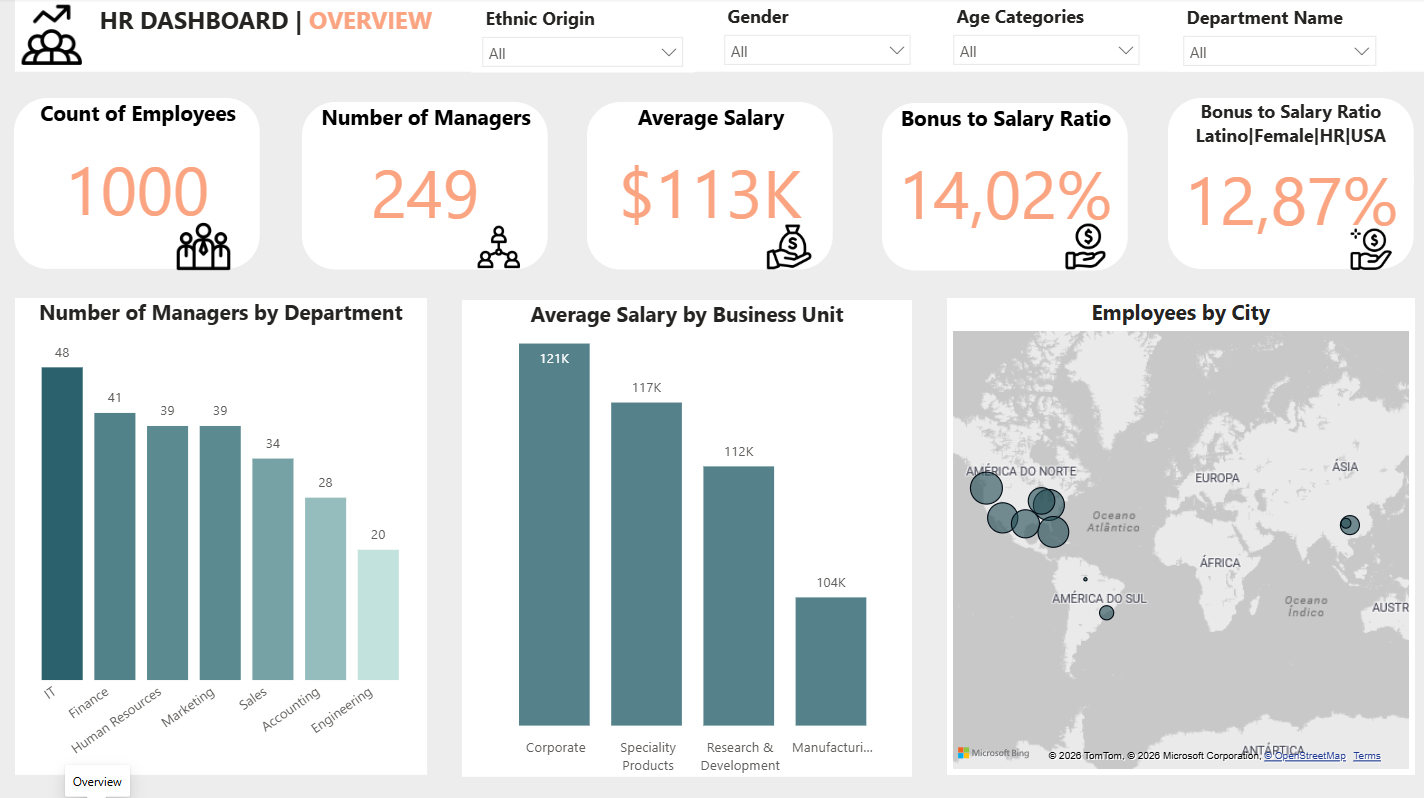

The dashboard page shown, as its layout file describes it:
{"tool":"powerbi","page":{"name":"Overview","canvas":[1280,720],"ordinal":1},"visuals":[{"type":"card","title":"Count of Employees","fields":{"Values":["CountNonNull(Employee Data.EEID)"]},"box":[16,89.9,220,153.3],"z":0},{"type":"columnChart","title":"Number of Managers by Department ","fields":{"Category":["Department.Department Name"],"Y":["CountNonNull(Employee Data.Job Title)"]},"box":[17.1,268.6,368.6,427.1],"z":1000},{"type":"card","title":"Number of Managers","fields":{"Values":["CountNonNull(Employee Data.Job Title)"]},"box":[274.3,93.2,220,150],"z":2000},{"type":"card","title":"Average Salary ","fields":{"Values":["Avg(Employee Data.Annual Salary)"]},"box":[529.3,93.5,220,150],"z":3000},{"type":"columnChart","title":"Average Salary by Business Unit","fields":{"Category":["Employee Data.Business Unit"],"Y":["Avg(Employee Data.Annual Salary)"]},"box":[417.1,270,402.9,427.1],"z":4000},{"type":"card","title":"Bonus to Salary Ratio","fields":{"Values":["Employee Data.BonusToSalaryRatio"]},"box":[793.1,93.6,220,150],"z":5000},{"type":"textbox","box":[17.1,0,1262.9,65.7],"z":6000},{"type":"image","box":[155.6,193.6,60,57.5],"z":7000},{"type":"image","box":[950,197.4,51.2,50.6],"z":8000},{"type":"image","box":[683,198.1,53.6,50],"z":9000},{"type":"image","box":[426.2,198,47.5,50],"z":10000},{"type":"image","box":[17.5,0,63.8,66.2],"z":11000},{"type":"textbox","box":[1049.3,89.9,220,104.3],"z":12000},{"type":"card","fields":{"Values":["Employee Data.BonusToSalaryRatio"]},"box":[1049.3,131.3,220,111.4],"z":13000},{"type":"image","box":[1208.1,201.1,46.9,46.9],"z":14000},{"type":"map","title":"Employees by City","fields":{"Category":["Employee Data.City"],"Size":["CountNonNull(Employee Data.EEID)"]},"box":[851.4,268.6,418.6,427.1],"z":15000},{"type":"slicer","fields":{"Values":["Ethnicity.Ethnic Origin"]},"box":[425.3,2,200,64.7],"z":16000},{"type":"slicer","fields":{"Values":["Employee Data.Gender"]},"box":[642,0,187.3,64.7],"z":17000},{"type":"slicer","fields":{"Values":["Employee Data.Age Categories"]},"box":[847.3,0,187.3,64.7],"z":18000},{"type":"slicer","fields":{"Values":["Department.Department Name"]},"box":[1053.3,0.7,192.7,64.7],"z":19000}]}

Visuals, with their boxes in screenshot pixels (x1, y1, x2, y2), scaled from the page's 1280x720 canvas onto the 1424x798 screenshot:
"Count of Employees" card: detection(18, 100, 263, 270)
"Number of Managers by Department " columnChart: detection(19, 298, 429, 771)
"Number of Managers" card: detection(305, 103, 550, 270)
"Average Salary " card: detection(589, 104, 834, 270)
"Average Salary by Business Unit" columnChart: detection(464, 299, 912, 773)
"Bonus to Salary Ratio" card: detection(882, 104, 1127, 270)
textbox: detection(19, 0, 1423, 73)
image: detection(173, 215, 240, 278)
image: detection(1057, 219, 1114, 275)
image: detection(760, 220, 819, 275)
image: detection(474, 219, 527, 275)
image: detection(19, 0, 90, 73)
textbox: detection(1167, 100, 1412, 215)
card - Employee Data.BonusToSalaryRatio: detection(1167, 146, 1412, 269)
image: detection(1344, 223, 1396, 275)
"Employees by City" map: detection(947, 298, 1413, 771)
slicer - Ethnicity.Ethnic Origin: detection(473, 2, 696, 74)
slicer - Employee Data.Gender: detection(714, 0, 923, 72)
slicer - Employee Data.Age Categories: detection(943, 0, 1151, 72)
slicer - Department.Department Name: detection(1172, 1, 1386, 72)
